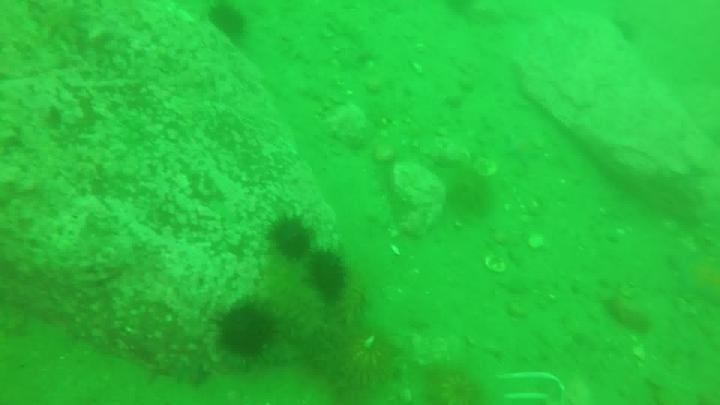echinus: (323, 315, 403, 390), (212, 297, 281, 362), (415, 359, 490, 405), (304, 247, 351, 303), (266, 212, 316, 262), (205, 2, 250, 43)
starfish: (667, 246, 720, 307), (502, 131, 545, 167)
